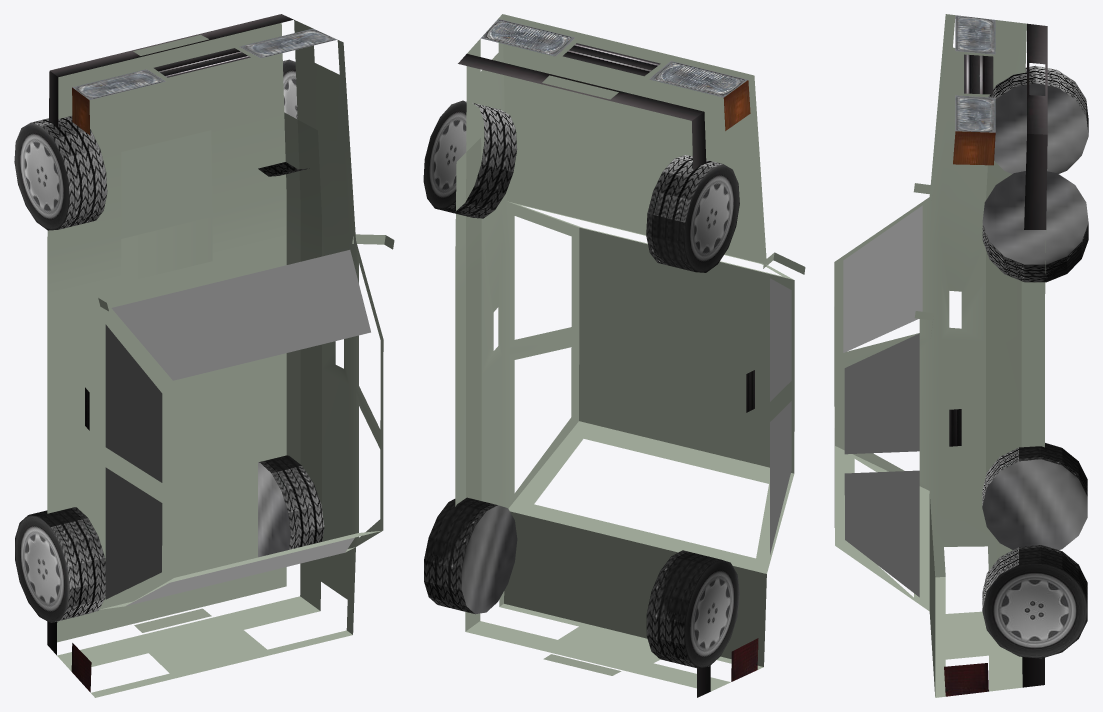
Rendered from Sedan.gltf.
The picture shows the model from 3 angles, left to right: view 1: azimuth 30°, elevation 25°; view 2: azimuth 150°, elevation 25°; view 3: azimuth 270°, elevation 25°; orthographic projection. The views are drawn at different scales.
Visible parts, largest first — view 1: Body3, WheelRL010, WheelRL009, WheelRL012, WheelRL011; view 2: Body3, WheelRL010, WheelRL012, WheelRL009, WheelRL011; view 3: Body3, WheelRL012, WheelRL010, WheelRL011, WheelRL009.
Boxes of the visible parts, x1,y1,x2,y2 form: Body3: [47, 14, 383, 697]; WheelRL010: [15, 507, 105, 622]; WheelRL009: [14, 116, 107, 230]; WheelRL012: [258, 455, 324, 557]; WheelRL011: [258, 59, 309, 176]; Body3: [455, 14, 794, 697]; WheelRL010: [646, 550, 739, 668]; WheelRL012: [424, 497, 517, 614]; WheelRL009: [646, 155, 739, 272]; WheelRL011: [423, 100, 517, 218]; Body3: [834, 14, 1047, 697]; WheelRL012: [982, 545, 1087, 658]; WheelRL010: [982, 443, 1087, 549]; WheelRL011: [982, 171, 1088, 282]; WheelRL009: [988, 65, 1088, 173].
Size of the model in its own units: 0.6762 by 1.19 by 0.4867.
Materials: 6 (3 with a texture image).
